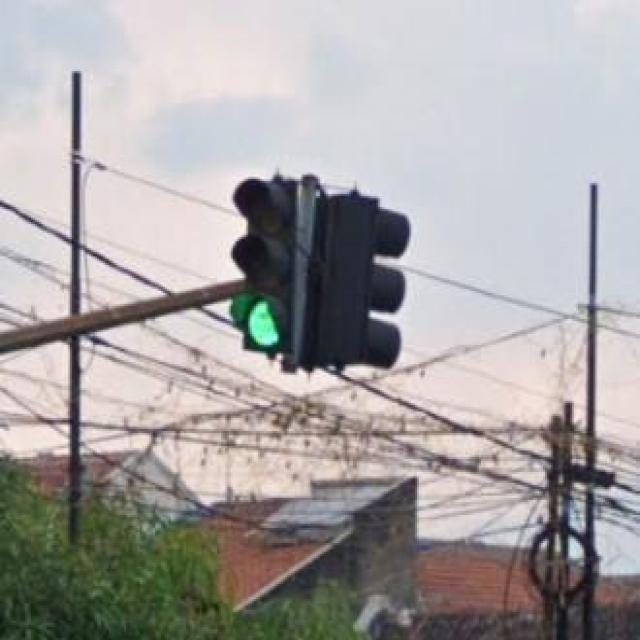green_light: (231, 179, 297, 354)
